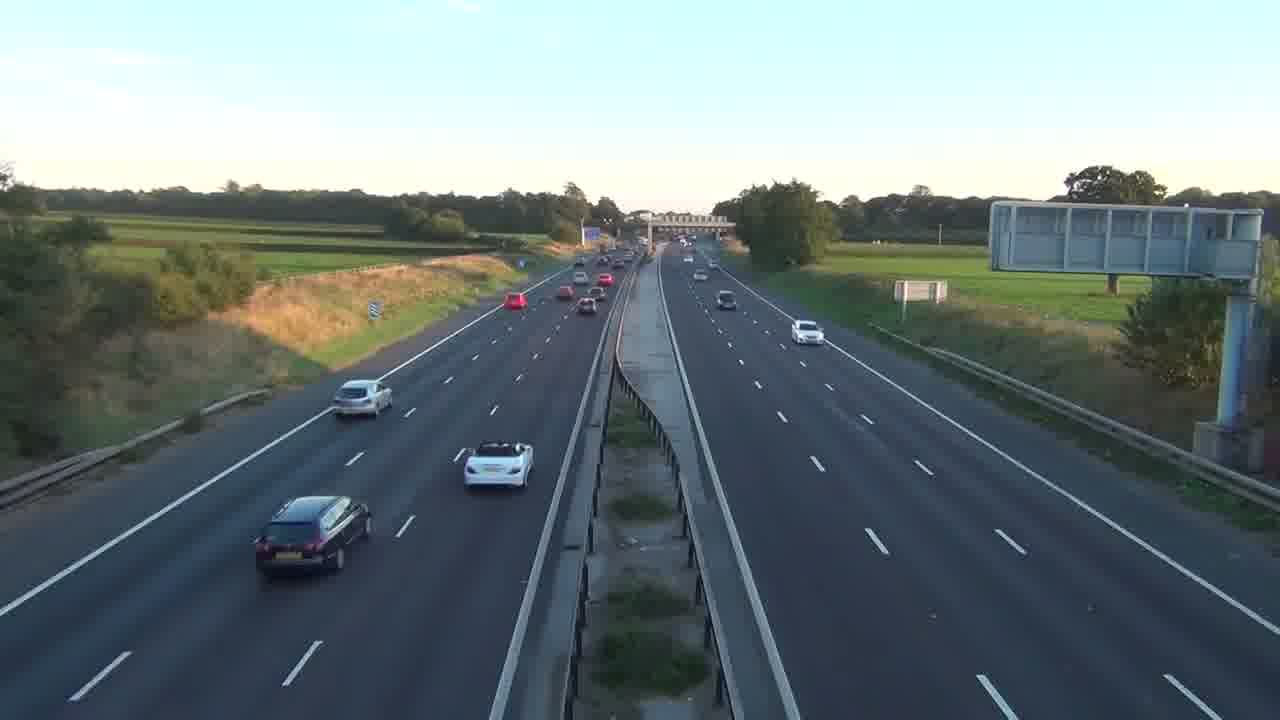car: (253, 494, 372, 578), (463, 440, 535, 490), (333, 378, 393, 419), (791, 319, 825, 344), (575, 295, 597, 315), (716, 290, 737, 309), (559, 284, 578, 299)
